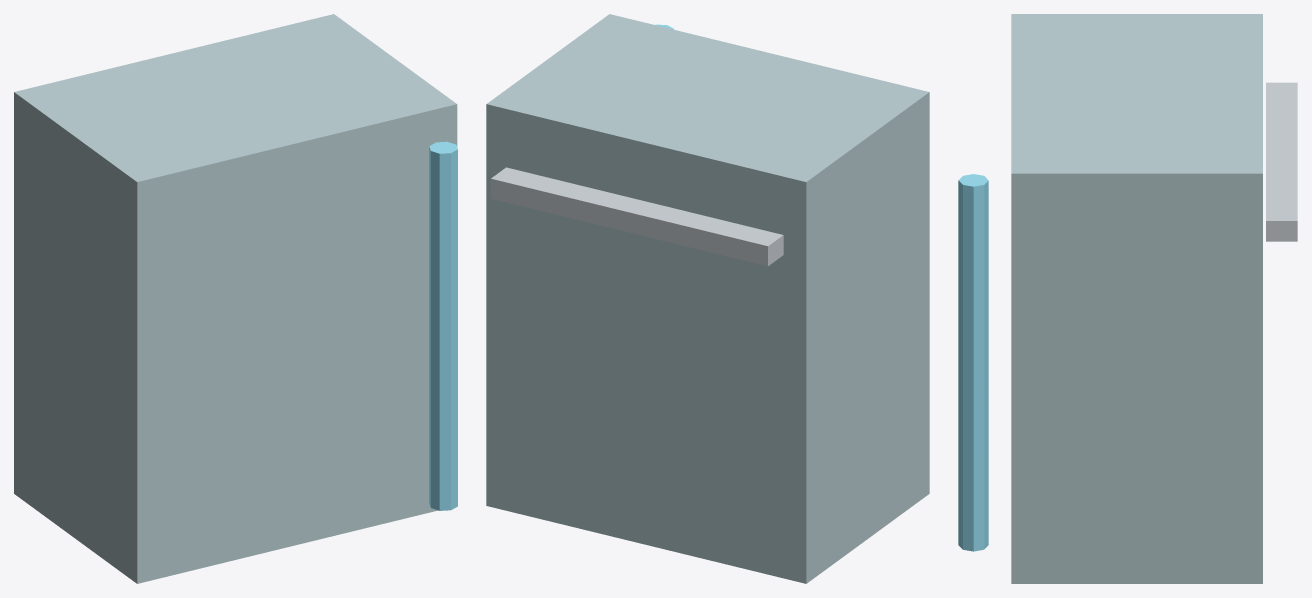
Rendered from refri_4.glb.
The picture shows the model from 3 angles, left to right: view 1: azimuth 30°, elevation 25°; view 2: azimuth 150°, elevation 25°; view 3: azimuth 270°, elevation 25°; orthographic projection. The views are drawn at different scales.
Visible parts, largest first — view 1: cuerpo, tubo; view 2: cuerpo, aleta; view 3: cuerpo, tubo, aleta.
Boxes of the visible parts, x1,y1,x2,y2 form: cuerpo: (14, 14, 457, 583); tubo: (429, 141, 457, 510); cuerpo: (486, 14, 929, 583); aleta: (491, 167, 783, 266); cuerpo: (1011, 14, 1262, 583); tubo: (958, 174, 988, 551); aleta: (1266, 82, 1297, 241).
Size of the model in its own units: 0.75 by 0.9 by 0.6737.
